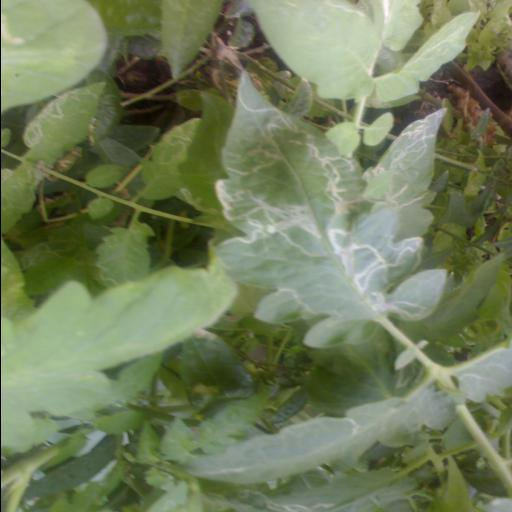disease_tomato: (212, 70, 450, 348)
